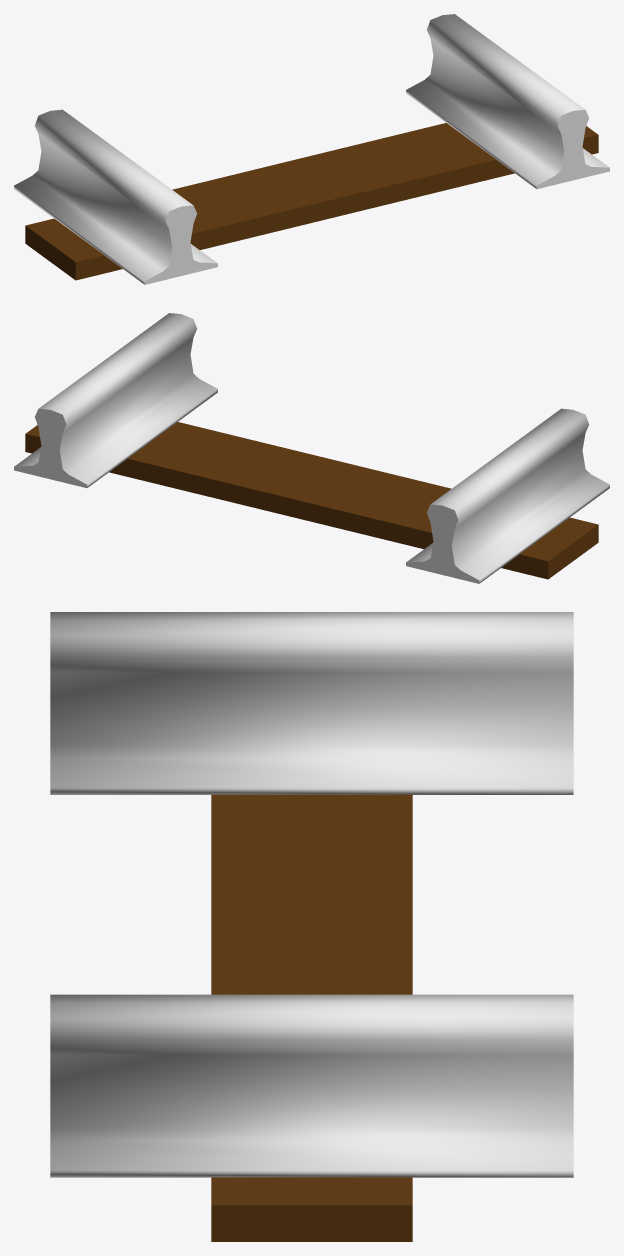
Rendered from track_part.glb.
The picture shows the model from 3 angles, top to bottom: view 1: azimuth 30°, elevation 25°; view 2: azimuth 150°, elevation 25°; view 3: azimuth 270°, elevation 25°; orthographic projection. The views are drawn at different scales.
Parts seen in each view (by area): view 1: track; view 2: track; view 3: track.
Part boxes in pixels (<box>): track: <box>14,14,609,284</box>; track: <box>14,313,609,583</box>; track: <box>50,612,573,1241</box>.
Bounding box in the file's own units: 2.1 × 0.3353 × 0.9081.
